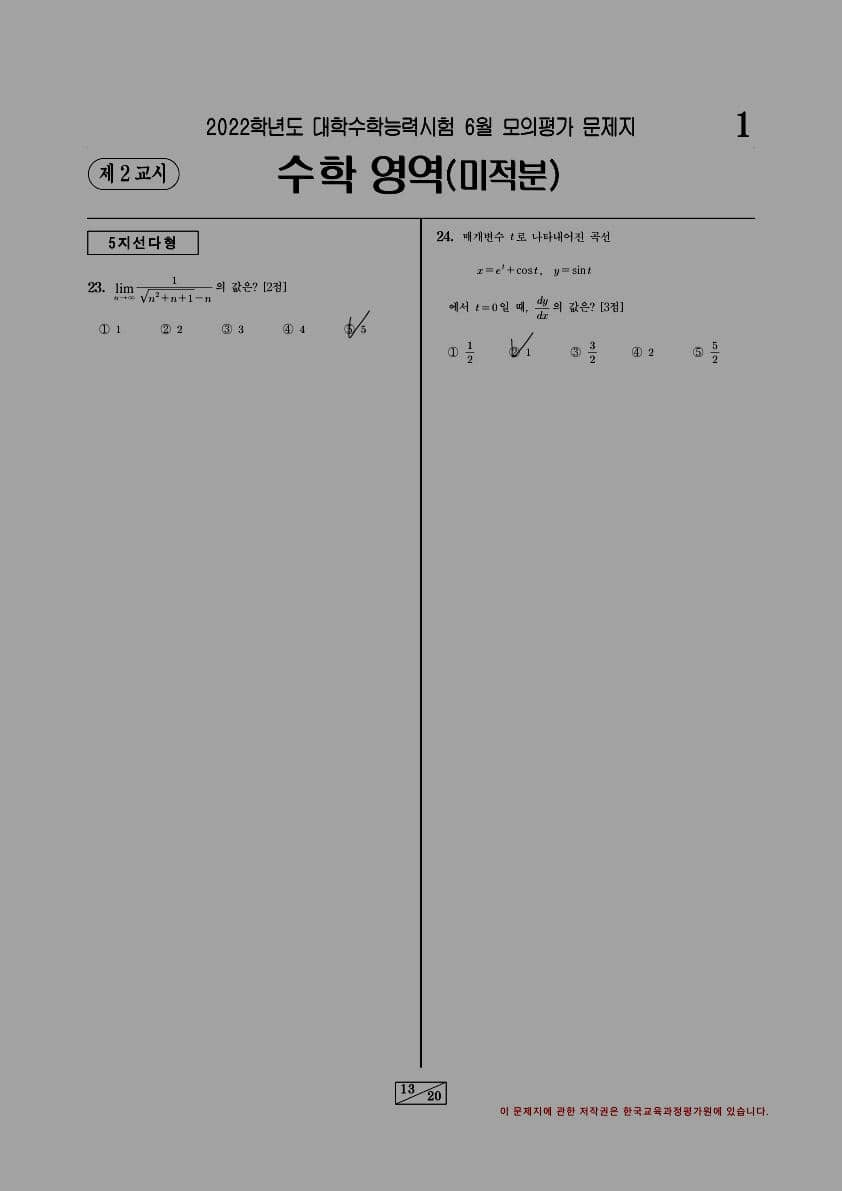question: (425, 223, 740, 385), (73, 267, 387, 358)
